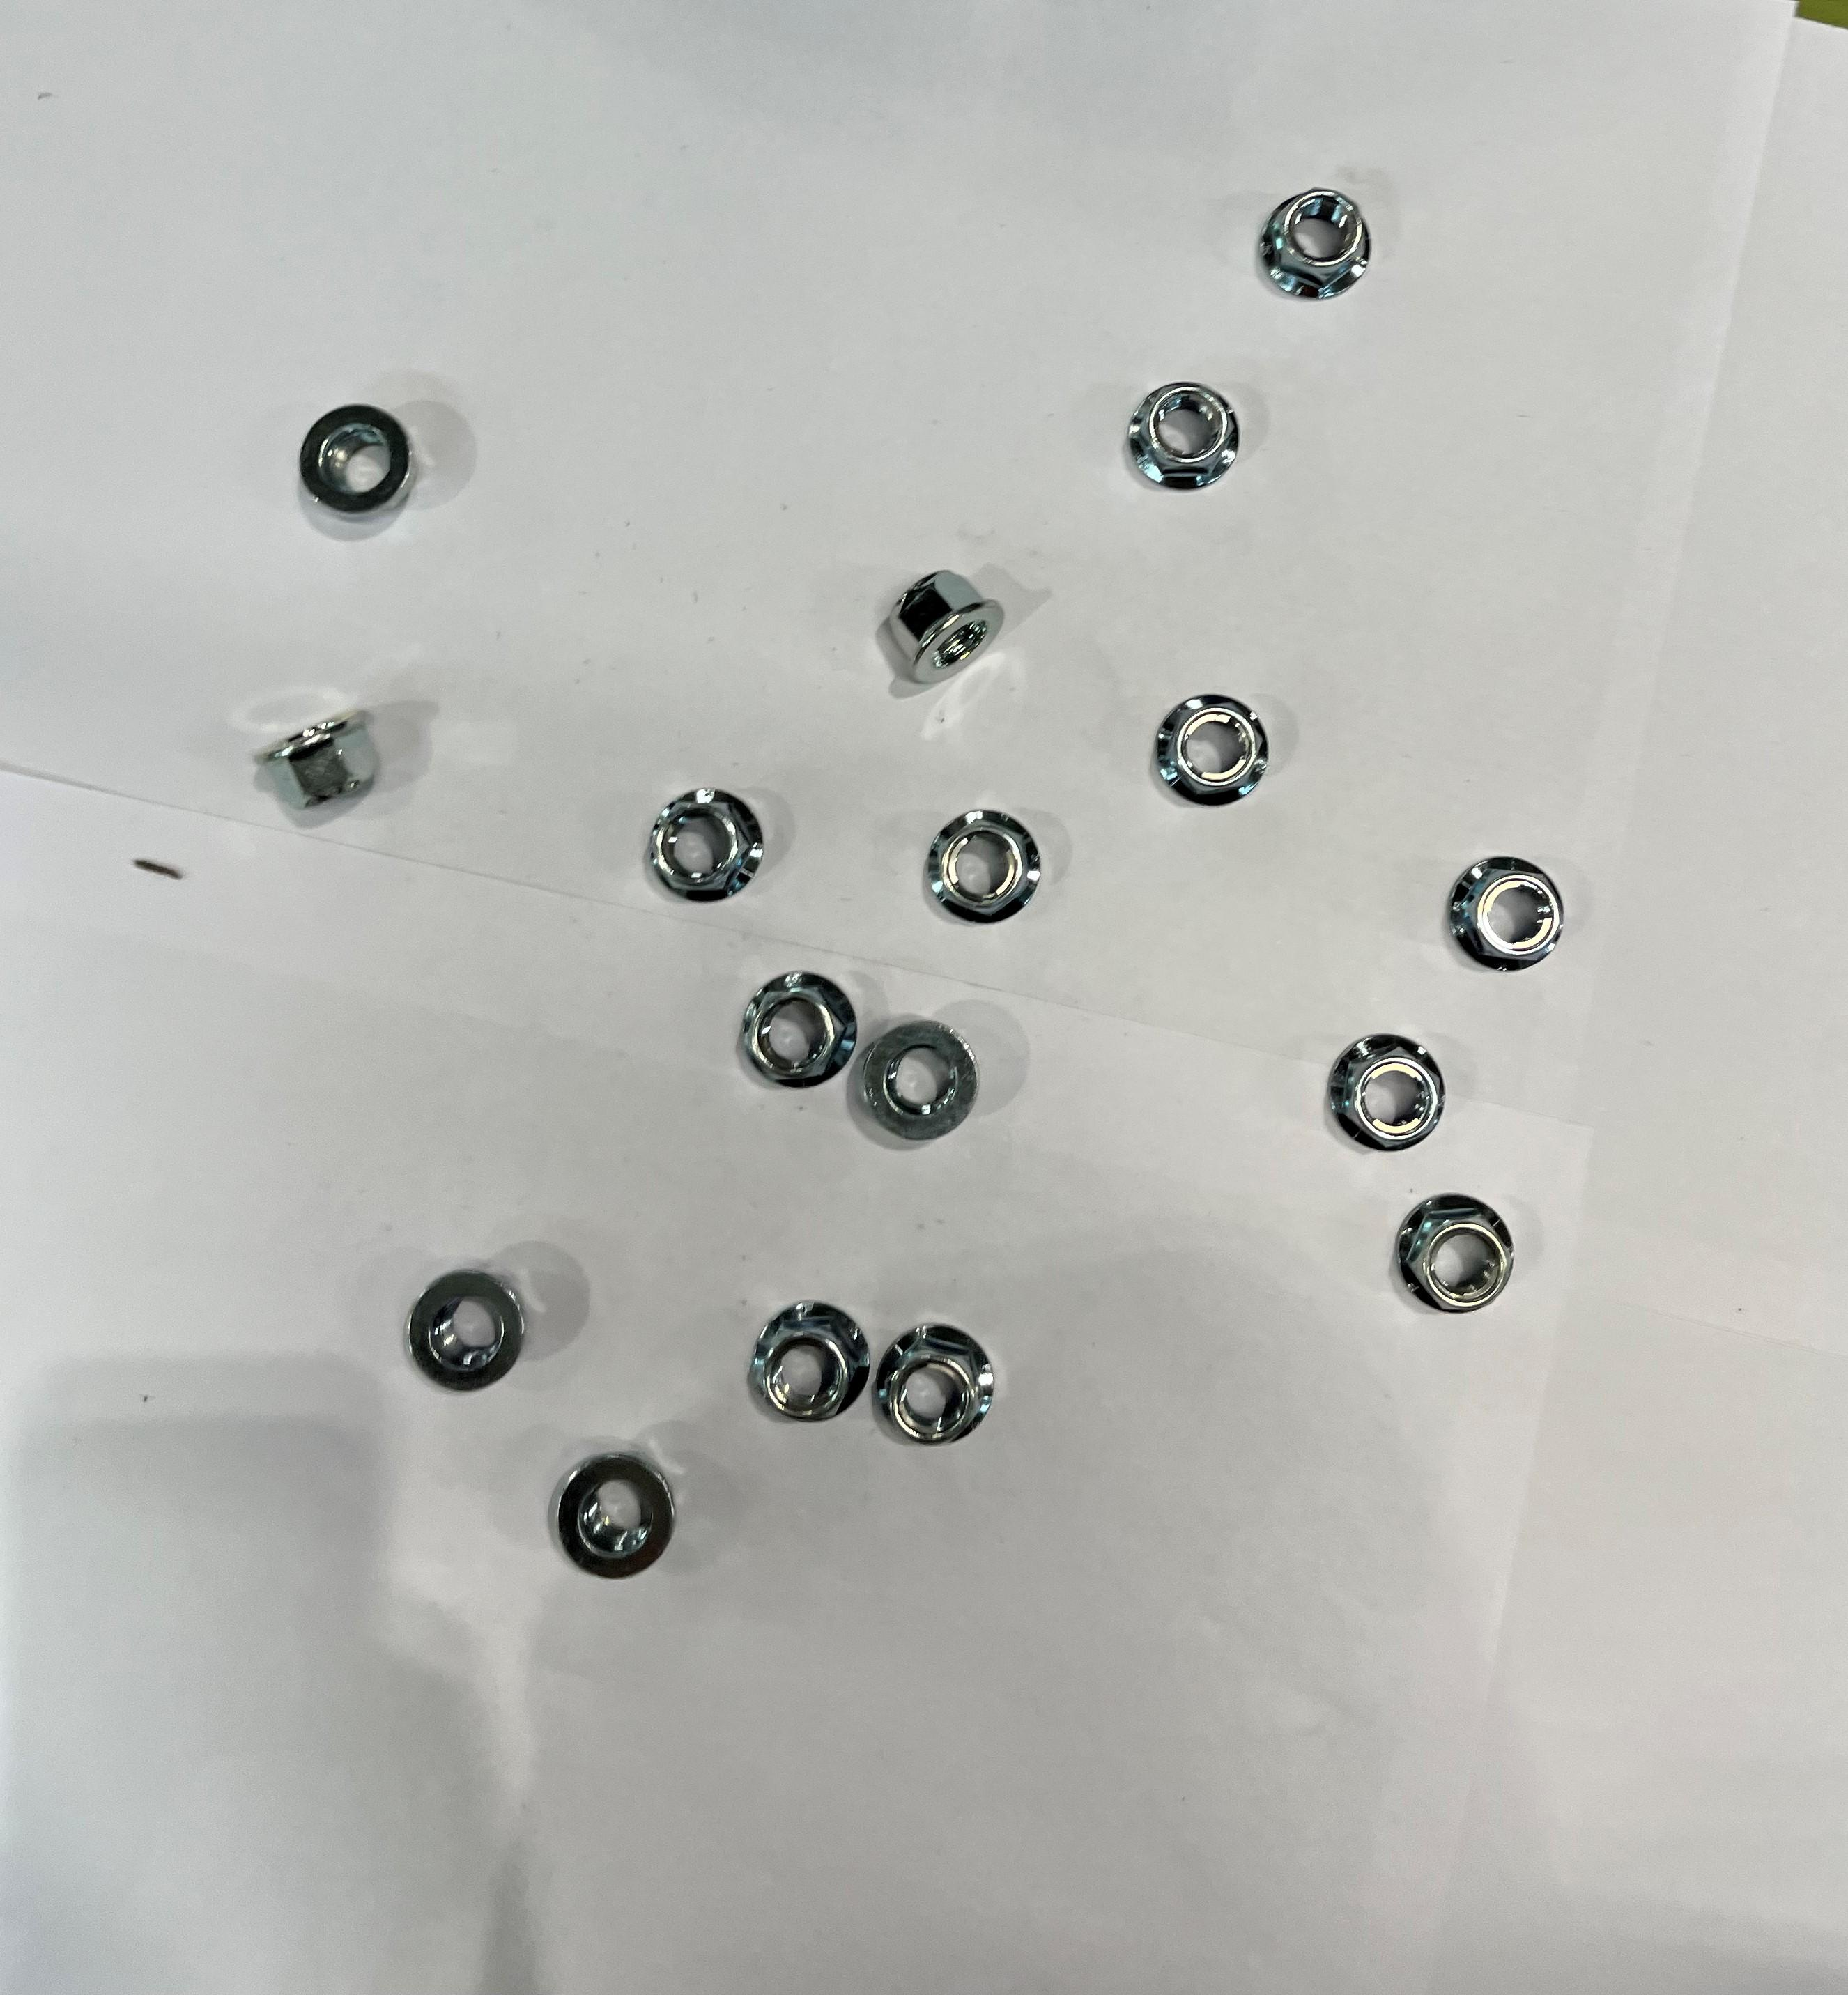Type B: (544, 1455, 678, 1578), (748, 1300, 869, 1427), (874, 1321, 994, 1449), (862, 1013, 979, 1143), (1394, 1189, 1514, 1312), (1326, 1031, 1452, 1149), (1445, 850, 1561, 977), (737, 968, 861, 1086), (412, 1274, 528, 1395), (301, 405, 422, 521), (243, 713, 386, 812), (883, 572, 1005, 686), (1149, 697, 1273, 810), (1257, 184, 1370, 304), (1118, 384, 1241, 492), (654, 785, 767, 902), (925, 812, 1043, 923), (229, 759, 238, 763)
